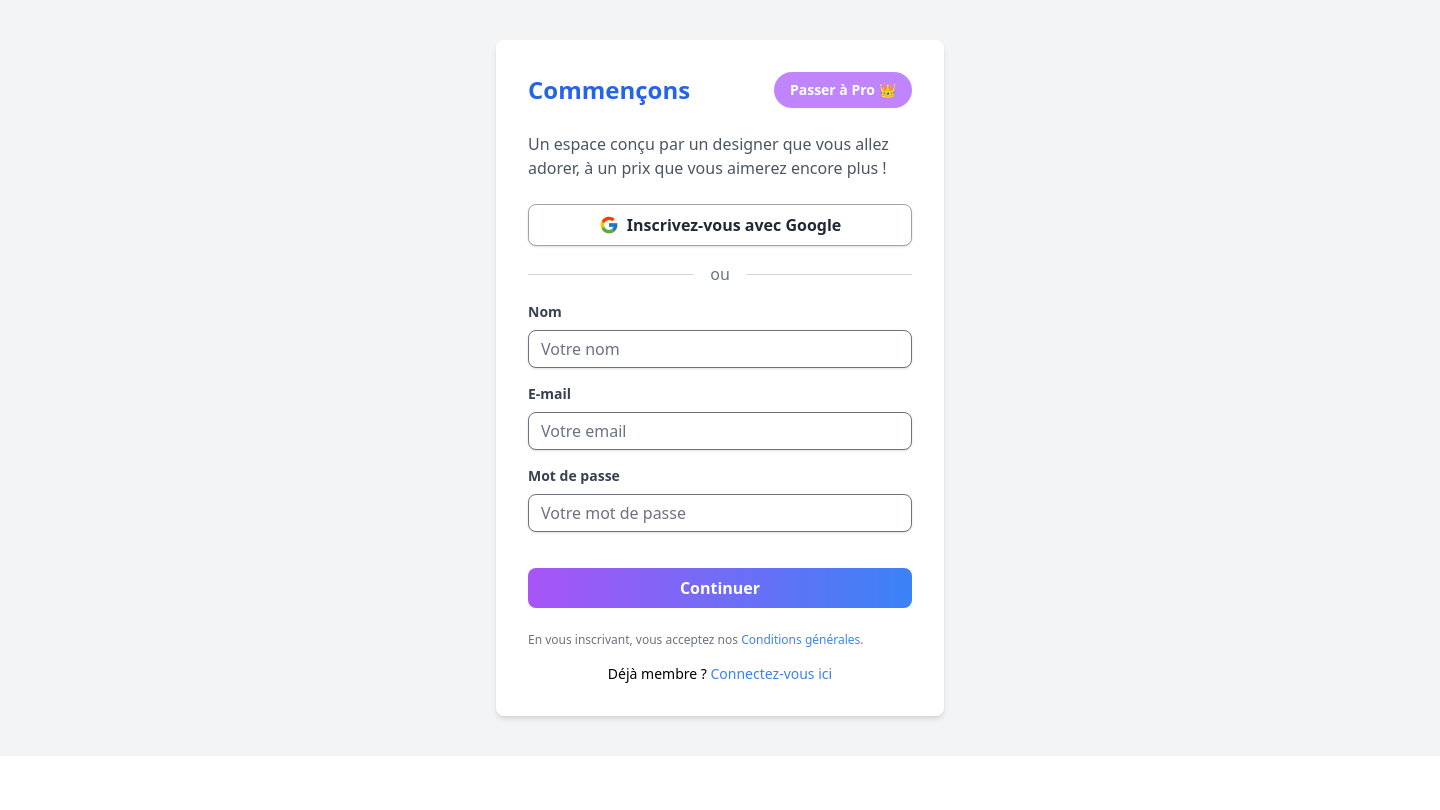
Scenario: SignUp Component › displays error message on sign-up failure
Type "John Doe" into the field labelled "Nom" at (720, 349), box x1=528 y1=330 x2=912 y2=368
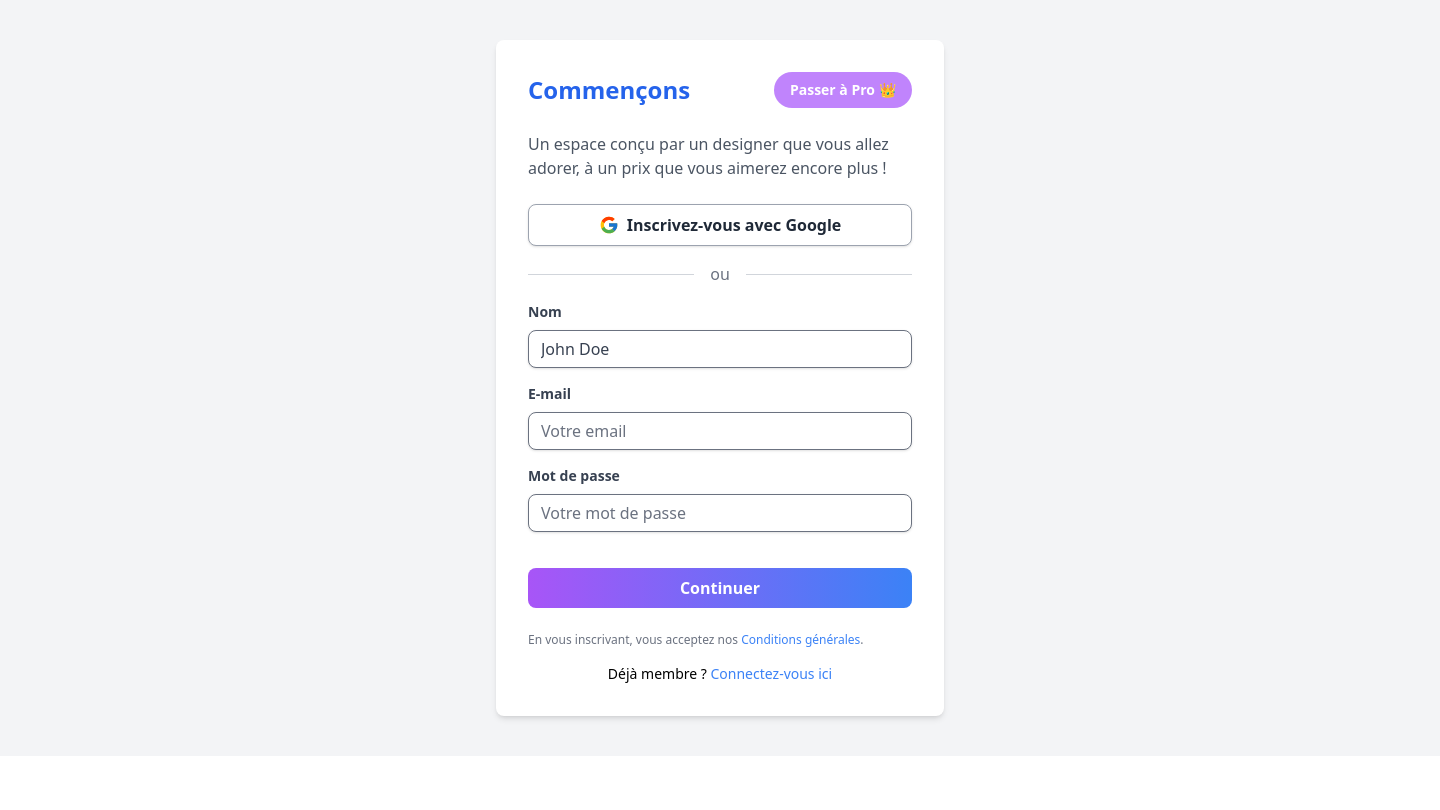
Type "john@example.com" into the field labelled "E-mail" at (720, 431), box x1=528 y1=412 x2=912 y2=450
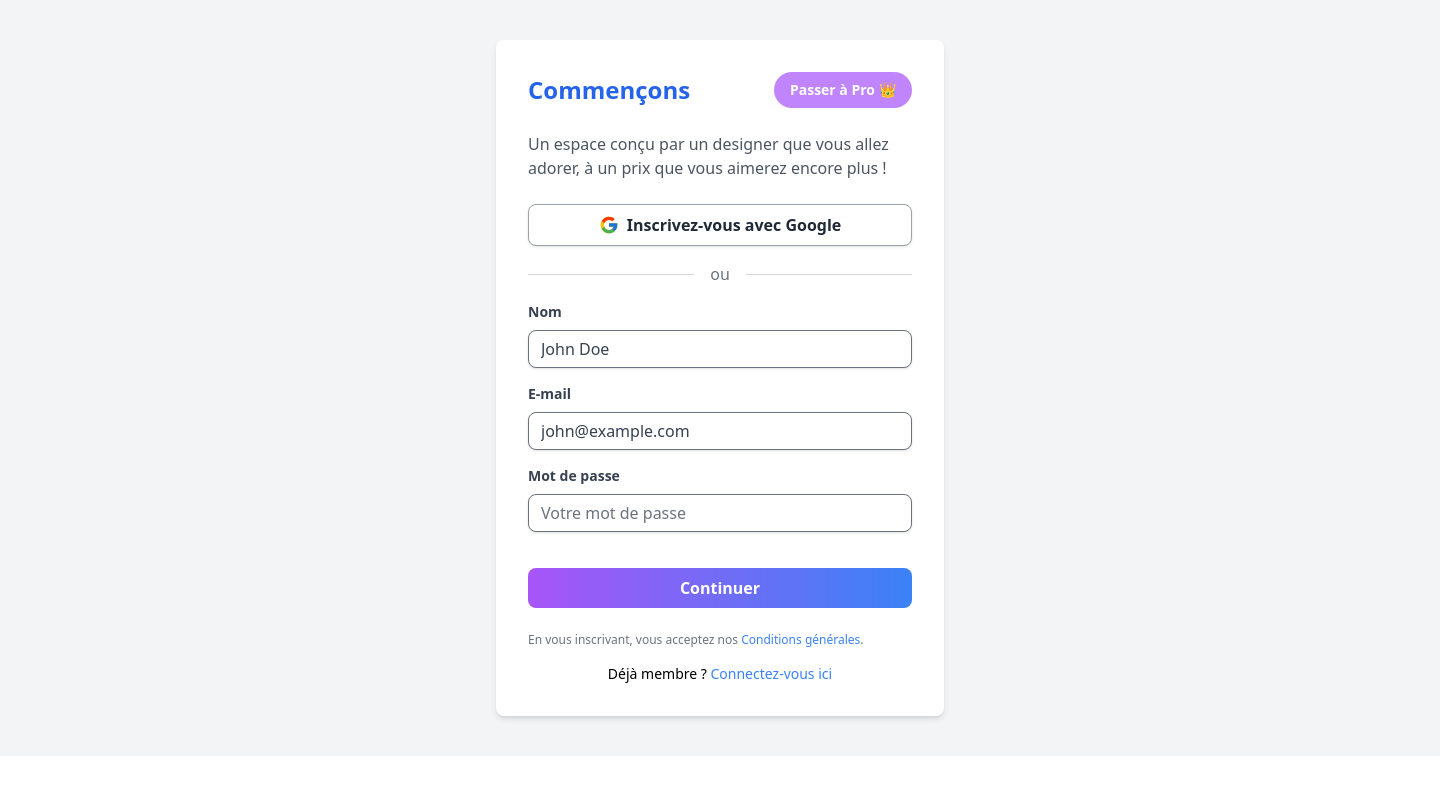
Type "securepass" into the password field labelled "Mot de passe" at (720, 513), box x1=528 y1=494 x2=912 y2=532
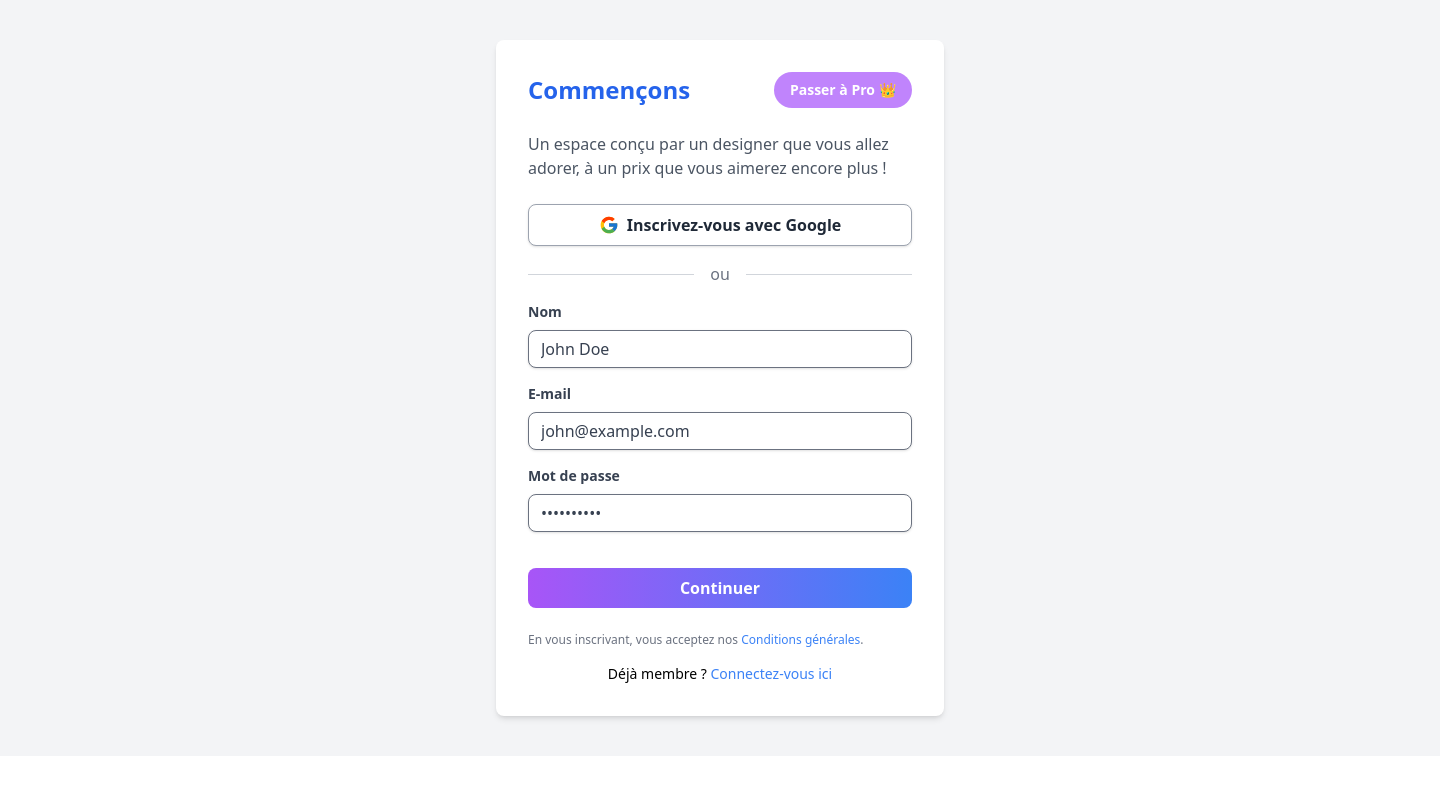
Submit the form, box x1=528 y1=302 x2=912 y2=648
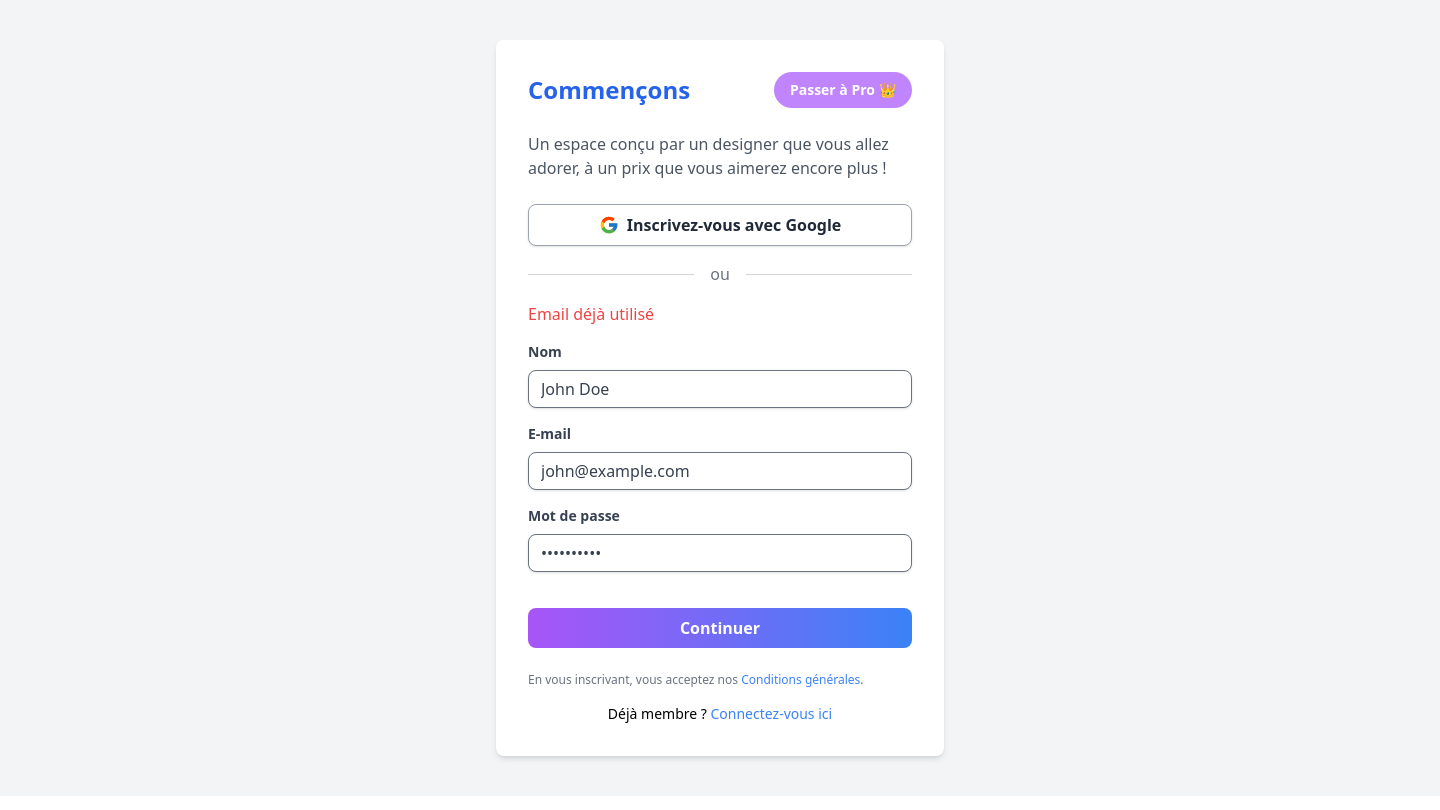
Check: the text "Email déjà utilisé" is shown, box x1=528 y1=303 x2=654 y2=325
